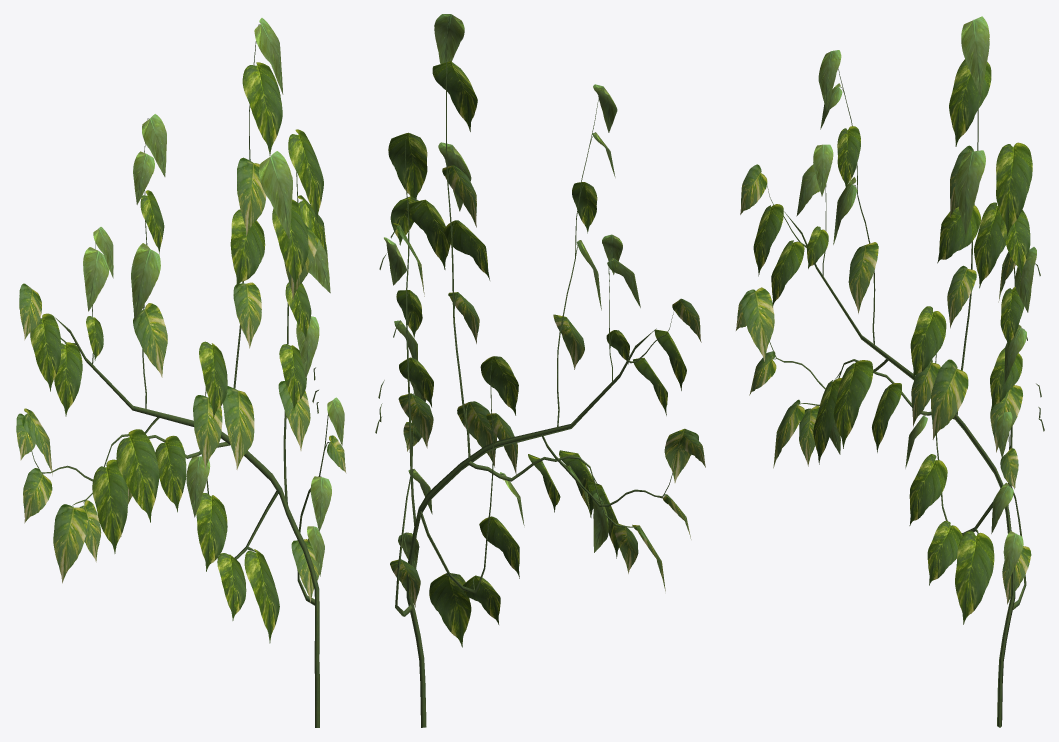
The model's file is ivy.glb.
3 views of the same model, side by side, from view 1: azimuth 30°, elevation 25°; view 2: azimuth 150°, elevation 25°; view 3: azimuth 330°, elevation 25° (orthographic). The views are drawn at different scales.
Visible parts, largest first — view 1: Ivy_wall_1_LOD0_Ivy_Mat_2048_0, Ivy_wall_1_LOD0_Stem_Mat_2048_0; view 2: Ivy_wall_1_LOD0_Ivy_Mat_2048_0, Ivy_wall_1_LOD0_Stem_Mat_2048_0; view 3: Ivy_wall_1_LOD0_Ivy_Mat_2048_0, Ivy_wall_1_LOD0_Stem_Mat_2048_0.
Boxes of the visible parts, <box> form: Ivy_wall_1_LOD0_Ivy_Mat_2048_0: <box>16,18,346,643</box>; Ivy_wall_1_LOD0_Stem_Mat_2048_0: <box>31,24,329,727</box>; Ivy_wall_1_LOD0_Ivy_Mat_2048_0: <box>384,14,705,647</box>; Ivy_wall_1_LOD0_Stem_Mat_2048_0: <box>375,16,683,727</box>; Ivy_wall_1_LOD0_Ivy_Mat_2048_0: <box>736,16,1036,624</box>; Ivy_wall_1_LOD0_Stem_Mat_2048_0: <box>767,68,1044,727</box>.
Size of the model in its own units: 0.4571 by 1 by 0.0996.
Materials: 2 (2 with a texture image).
